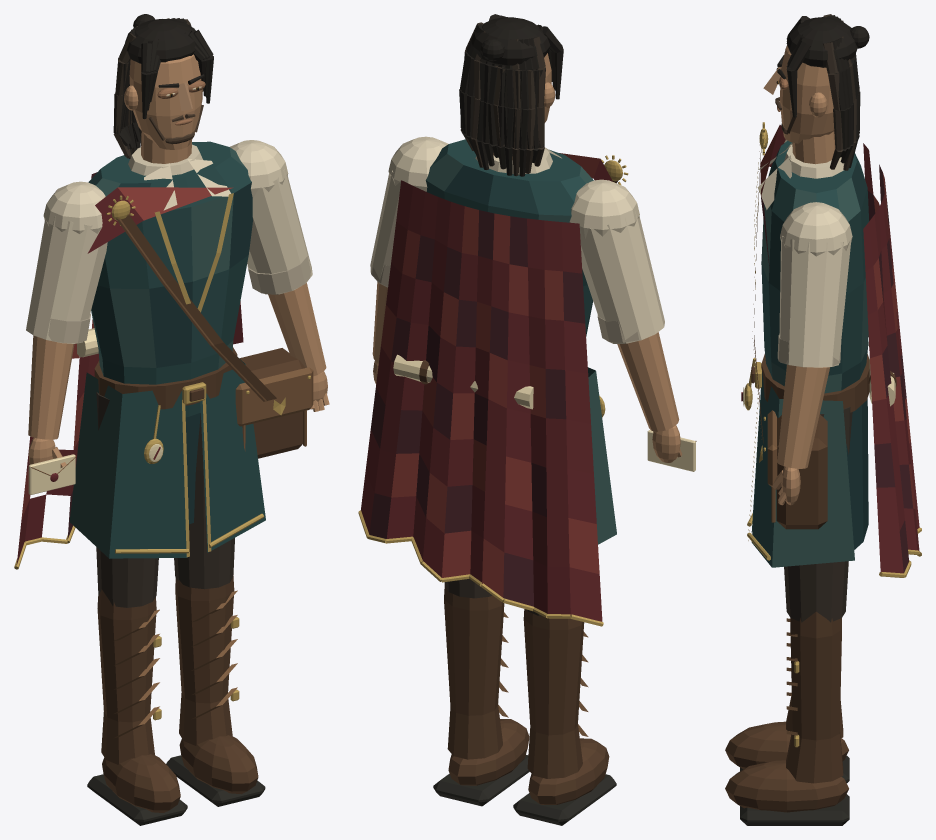
Rendered from human-courier.glb.
3 views of the same model, side by side, from view 1: azimuth 30°, elevation 25°; view 2: azimuth 150°, elevation 25°; view 3: azimuth 270°, elevation 25° (orthographic). The views are drawn at different scales.
Visible parts, largest first — view 1: Waistcoat, Split_coat_R, Boot_shaft_R, Boot_shaft_L, Split_coat_L, Linen_sleeve_R, Linen_sleeve_L, Face, Forearm_R, Trouser_thigh_L, Boot_toe_L, Boot_toe_R (+22 smaller); view 2: Cloak_folds, Boot_shaft_L, Boot_shaft_R, Waistcoat, Linen_sleeve_R, Forearm_R, Shirt_shoulder_R, Boot_toe_L, Boot_toe_R, Split_coat_R, Hair_crown, Shirt_shoulder_L (+8 smaller); view 3: Cloak_folds, Waistcoat, Split_coat_L, Boot_shaft_L, Linen_sleeve_L, Boot_toe_L, Forearm_L, Trouser_thigh_L, Messenger_satchel, Face, Shirt_shoulder_L, Back_coat (+11 smaller).
Boxes of the visible parts, left/top/right/bottom form: Waistcoat: left=88, top=141, right=252, bottom=417; Split_coat_R: left=69, top=372, right=187, bottom=558; Boot_shaft_R: left=97, top=589, right=156, bottom=764; Boot_shaft_L: left=175, top=574, right=234, bottom=745; Split_coat_L: left=200, top=357, right=265, bottom=552; Linen_sleeve_R: left=26, top=211, right=107, bottom=343; Linen_sleeve_L: left=247, top=168, right=312, bottom=294; Face: left=129, top=54, right=202, bottom=149; Forearm_R: left=28, top=335, right=74, bottom=439; Trouser_thigh_L: left=174, top=413, right=234, bottom=589; Boot_toe_L: left=179, top=735, right=258, bottom=794; Boot_toe_R: left=102, top=754, right=180, bottom=812; Cloak_folds: left=361, top=180, right=602, bottom=621; Boot_shaft_L: left=444, top=583, right=504, bottom=759; Boot_shaft_R: left=523, top=609, right=584, bottom=778; Waistcoat: left=425, top=139, right=593, bottom=336; Linen_sleeve_R: left=580, top=210, right=664, bottom=343; Forearm_R: left=617, top=332, right=679, bottom=431; Shirt_shoulder_R: left=569, top=179, right=639, bottom=238; Boot_toe_L: left=448, top=719, right=529, bottom=785; Boot_toe_R: left=528, top=738, right=609, bottom=804; Split_coat_R: left=588, top=367, right=616, bottom=544; Hair_crown: left=471, top=17, right=550, bottom=65; Shirt_shoulder_L: left=388, top=136, right=448, bottom=191; Cloak_folds: left=863, top=143, right=919, bottom=573; Waistcoat: left=761, top=140, right=869, bottom=393; Split_coat_L: left=751, top=372, right=854, bottom=567; Boot_shaft_L: left=786, top=611, right=843, bottom=783; Linen_sleeve_L: left=779, top=236, right=851, bottom=367; Boot_toe_L: left=725, top=760, right=848, bottom=812; Forearm_L: left=777, top=364, right=830, bottom=468; Trouser_thigh_L: left=784, top=407, right=852, bottom=622; Messenger_satchel: left=776, top=414, right=827, bottom=529; Face: left=780, top=45, right=834, bottom=143; Shirt_shoulder_L: left=780, top=202, right=852, bottom=256; Back_coat: left=846, top=399, right=868, bottom=549.
Bounding box in the file's own units: 0.7395 × 1.76 × 0.4059.
